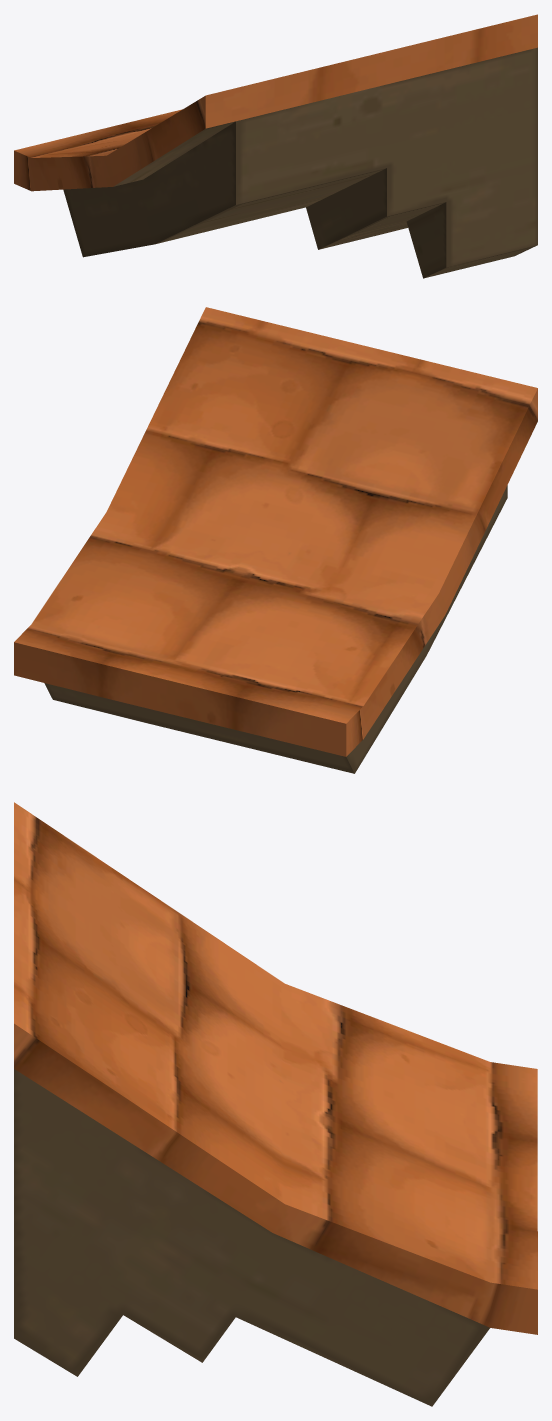
File: SM_building_roof_11.glb
The picture shows the model from 3 angles, top to bottom: view 1: azimuth 30°, elevation 25°; view 2: azimuth 150°, elevation 25°; view 3: azimuth 270°, elevation 25°; orthographic projection. The views are drawn at different scales.
Parts seen in each view (by area): view 1: SM_building_roof_11; view 2: SM_building_roof_11; view 3: SM_building_roof_11.
Part boxes in pixels (bbox=[...]): SM_building_roof_11: bbox=[14, 14, 537, 278]; SM_building_roof_11: bbox=[14, 307, 537, 773]; SM_building_roof_11: bbox=[14, 802, 537, 1406].
Size of the model in its own units: 1.1 by 0.8898 by 1.1.
Materials: 2 (2 with a texture image).
